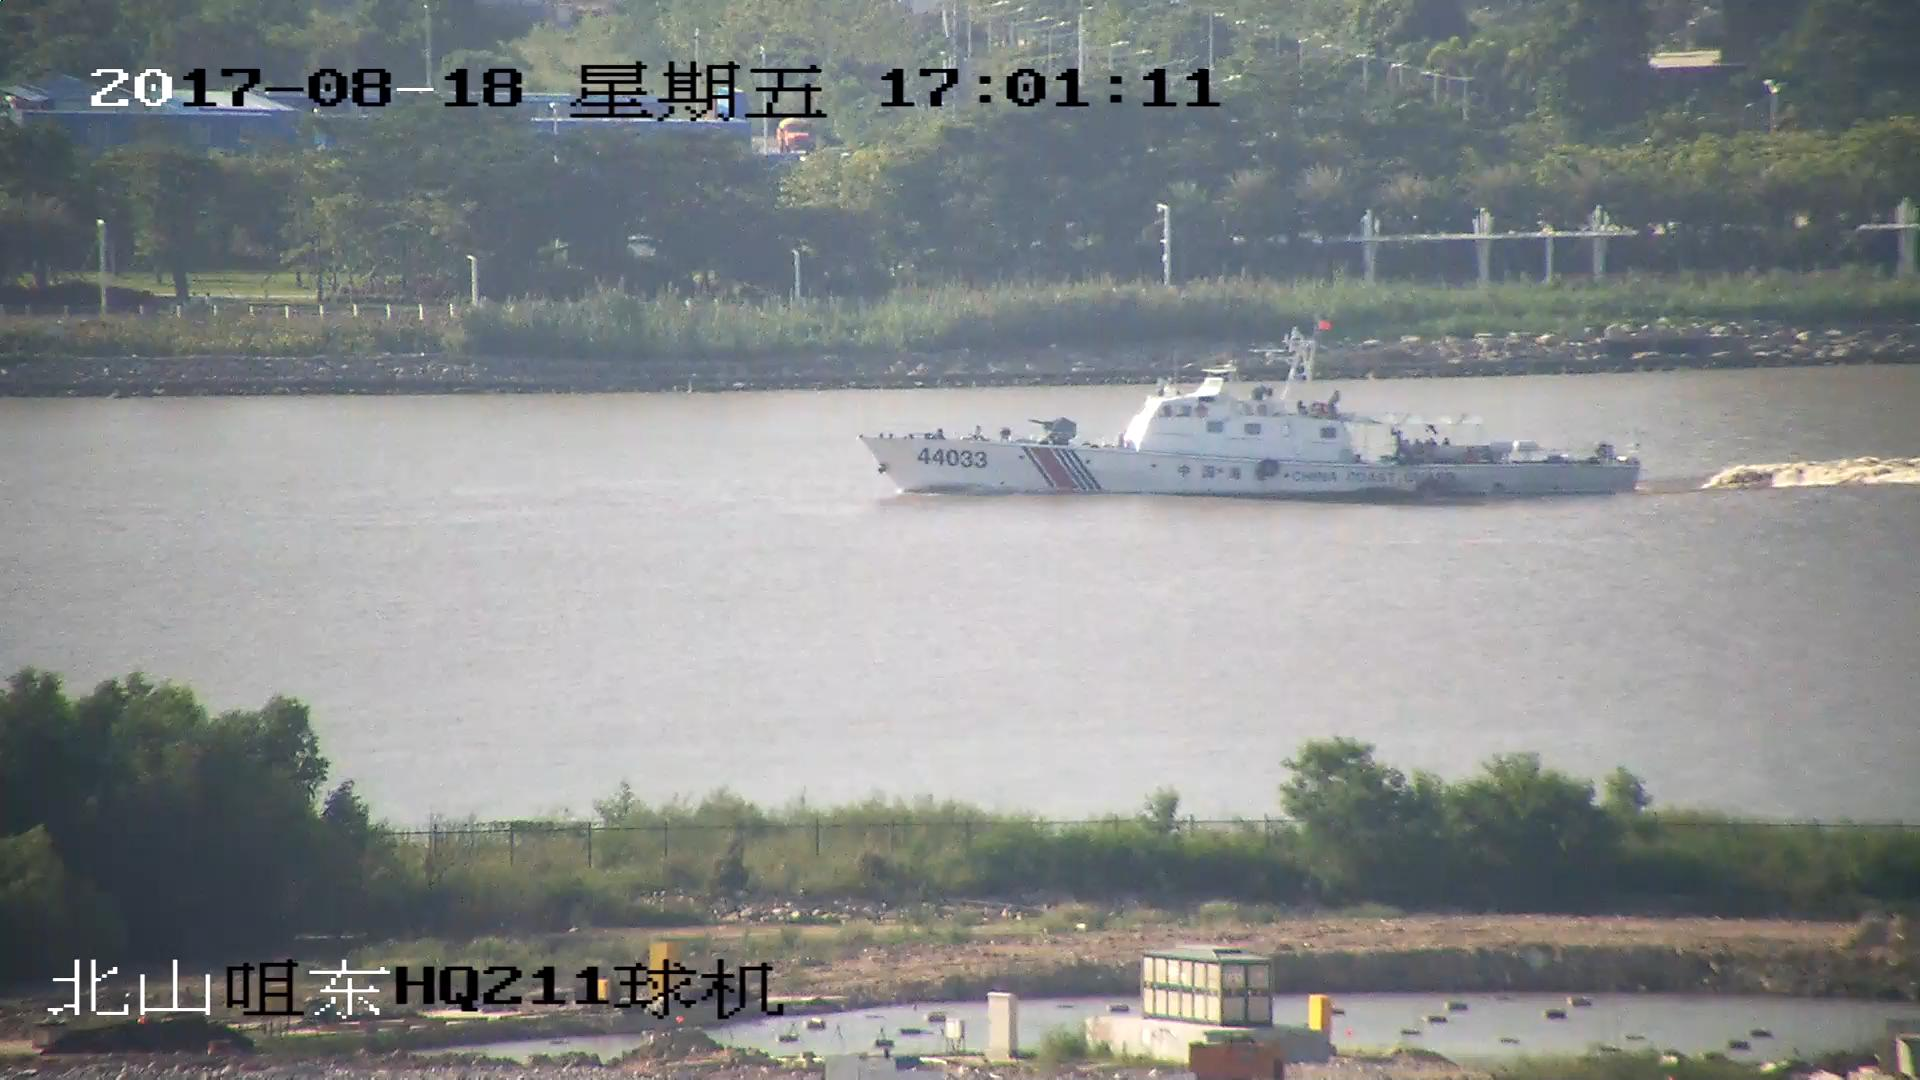passenger ship: (868, 324, 1640, 502)
